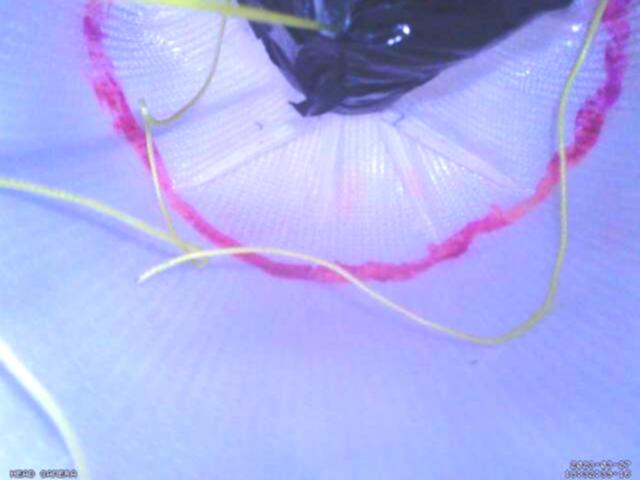head: (80, 0, 632, 285)
